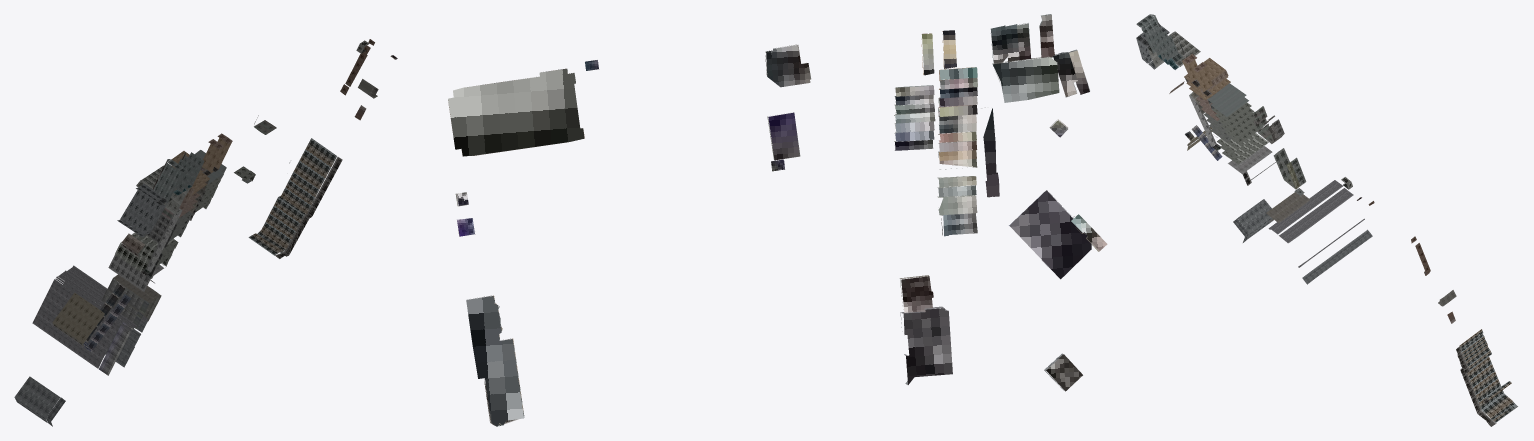
File: tile_LOD3_r1_c3.glb
3 views of the same model, side by side, from view 1: azimuth 30°, elevation 25°; view 2: azimuth 150°, elevation 25°; view 3: azimuth 270°, elevation 25° (orthographic). The views are drawn at different scales.
Bounding box in the file's own units: 292 × 177 × 222.
Materials: 145 (145 with a texture image).
